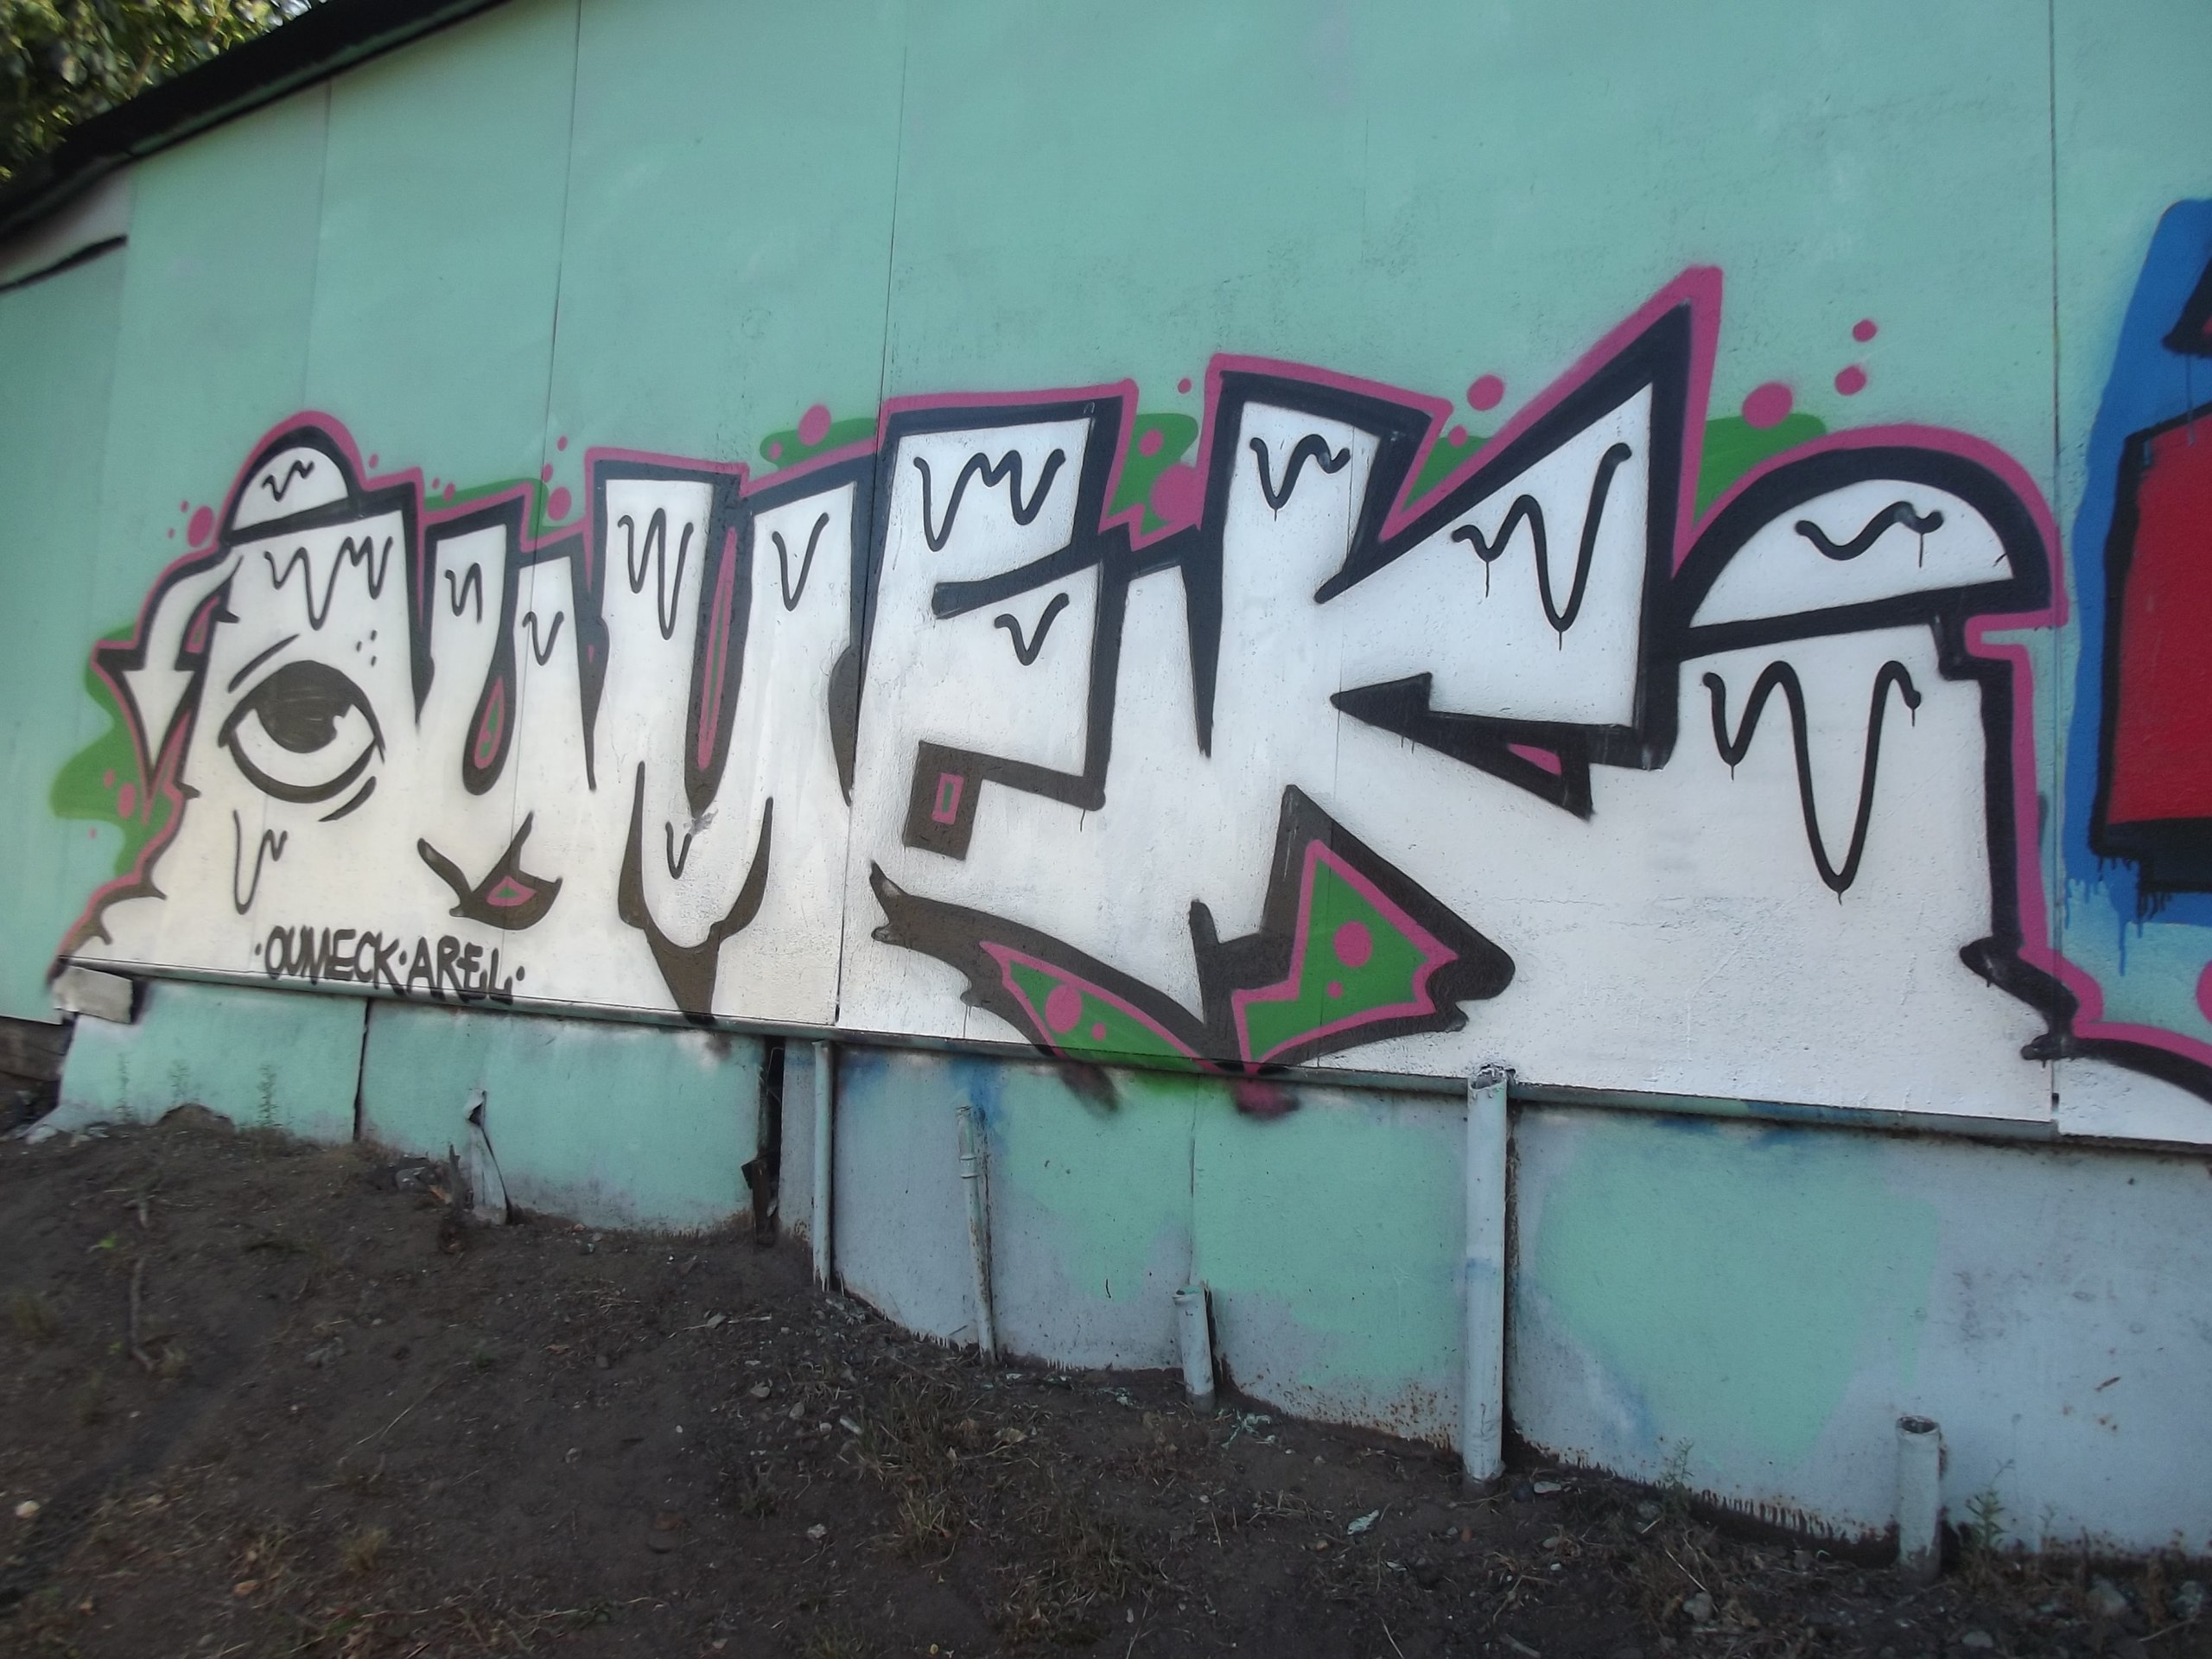graffity: (47, 246, 2193, 1147), (2013, 181, 2212, 979)
